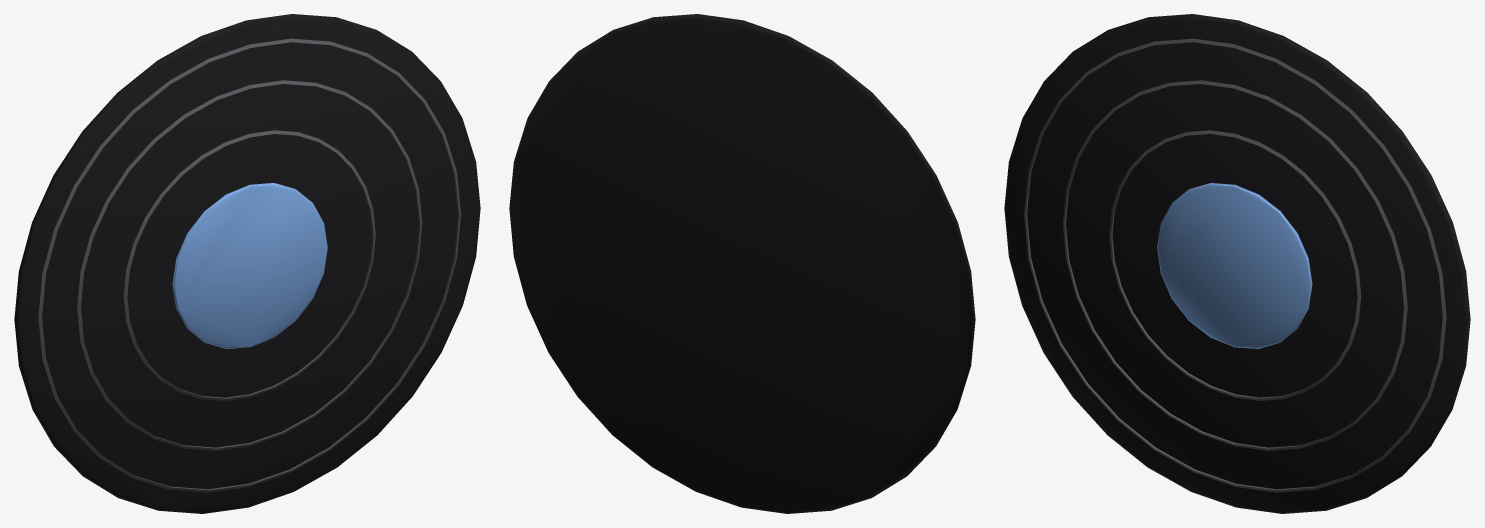
Rendered from record_3.glb.
The picture shows the model from 3 angles, left to right: view 1: azimuth 30°, elevation 25°; view 2: azimuth 150°, elevation 25°; view 3: azimuth 330°, elevation 25°; orthographic projection.
Visible parts, largest first — view 1: Record, Record label, Groove shine; view 2: Record; view 3: Record, Record label, Groove shine.
Boxes of the visible parts, x1,y1,x2,y2 form: Record: [14, 14, 480, 513]; Record label: [172, 183, 327, 348]; Groove shine: [38, 38, 460, 492]; Record: [509, 14, 975, 513]; Record: [1004, 14, 1470, 513]; Record label: [1157, 183, 1312, 348]; Groove shine: [1024, 38, 1446, 492].
Bounding box in the file's own units: 0.3 × 0.3 × 0.006.
